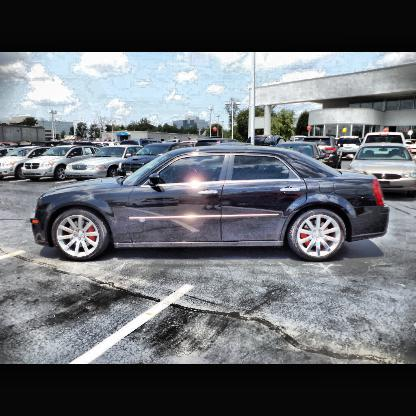Chrysler 300 SRT-8 2010: (29, 143, 389, 263)
